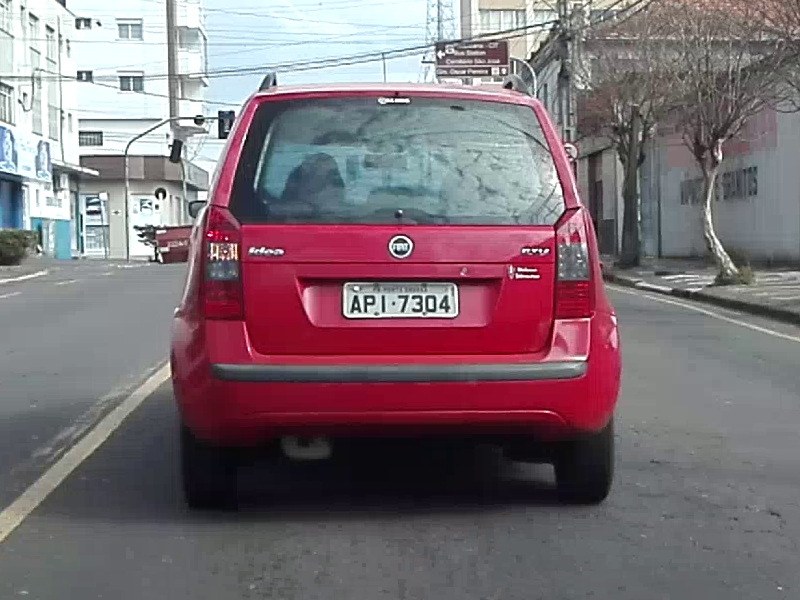placa: (343, 282, 458, 318)
